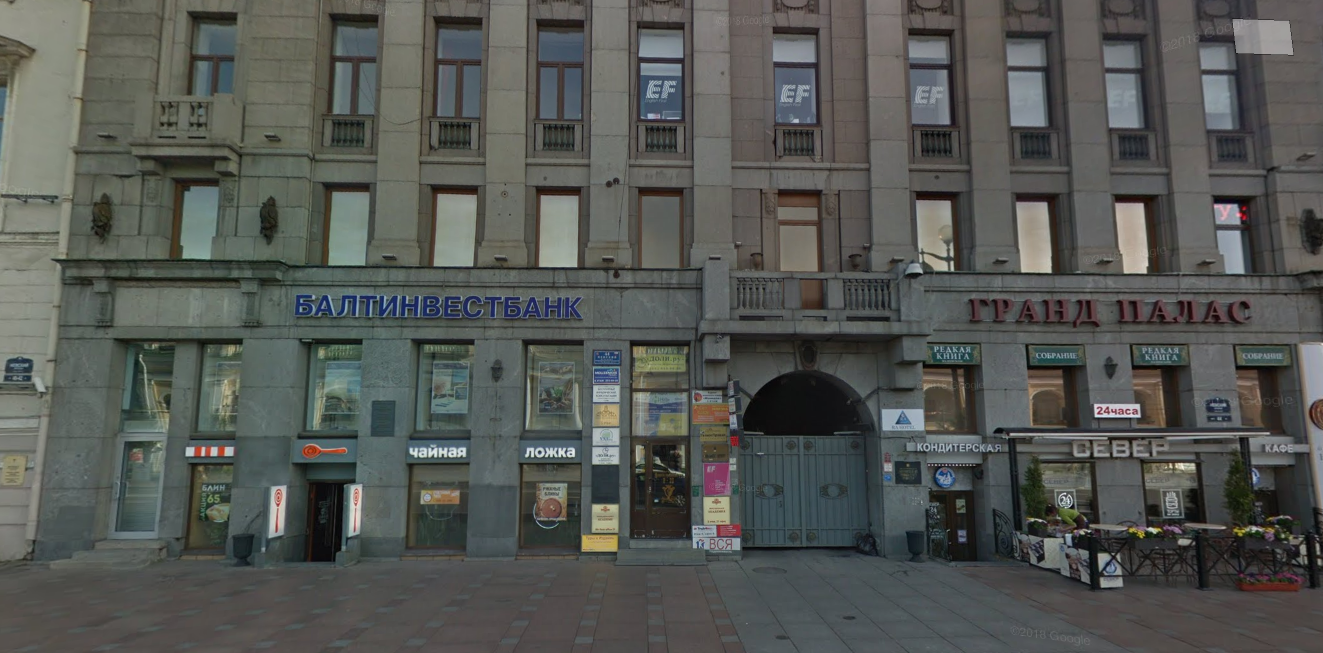arch: (739, 365, 887, 563)
cantilever: (723, 379, 743, 449)
door: (102, 428, 172, 540), (630, 441, 691, 542)
signboard: (956, 288, 1258, 334), (288, 280, 595, 325), (1065, 433, 1170, 461), (907, 439, 1001, 459), (408, 441, 473, 464), (297, 438, 356, 463), (520, 436, 575, 460), (1094, 404, 1137, 418)
window: (433, 16, 486, 118), (325, 21, 377, 119), (535, 21, 584, 122), (191, 341, 241, 439), (1197, 40, 1248, 133), (416, 351, 475, 431), (306, 345, 360, 432), (531, 343, 588, 425), (775, 31, 823, 127), (123, 342, 176, 424), (321, 185, 374, 266), (1004, 36, 1049, 129), (908, 33, 952, 128), (1105, 38, 1149, 131), (1026, 366, 1089, 430), (640, 24, 681, 116), (188, 19, 237, 93), (430, 192, 477, 268), (638, 192, 682, 272), (1014, 197, 1060, 273), (1115, 196, 1159, 273), (1213, 200, 1259, 273), (173, 184, 220, 254), (539, 192, 579, 270), (1239, 370, 1290, 431), (1134, 371, 1190, 426), (779, 201, 822, 271), (925, 372, 974, 431), (916, 201, 951, 271)
